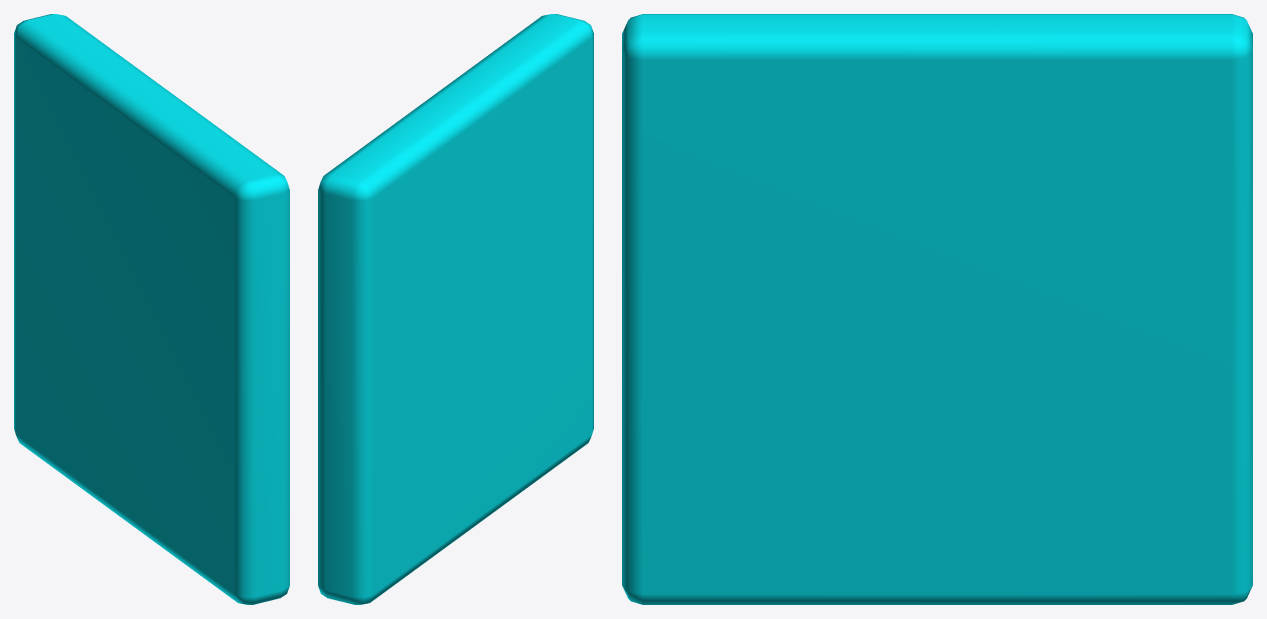
Rendered from wheel_rim_aero_blade_rear_rr_5.glb.
3 renders of one model, left to right at view 1: azimuth 30°, elevation 25°; view 2: azimuth 150°, elevation 25°; view 3: azimuth 270°, elevation 25°, orthographic. The views are drawn at different scales.
Visible parts, largest first — view 1: WHEEL_Rim_Aero_Blade_Rear_RR_5; view 2: WHEEL_Rim_Aero_Blade_Rear_RR_5; view 3: WHEEL_Rim_Aero_Blade_Rear_RR_5.
Part boxes in pixels (x1,y1,x2,y2): WHEEL_Rim_Aero_Blade_Rear_RR_5: [14, 14, 289, 604]; WHEEL_Rim_Aero_Blade_Rear_RR_5: [318, 14, 593, 604]; WHEEL_Rim_Aero_Blade_Rear_RR_5: [622, 14, 1252, 604].
Bounding box in the file's own units: 0.012 × 0.09 × 0.09.
